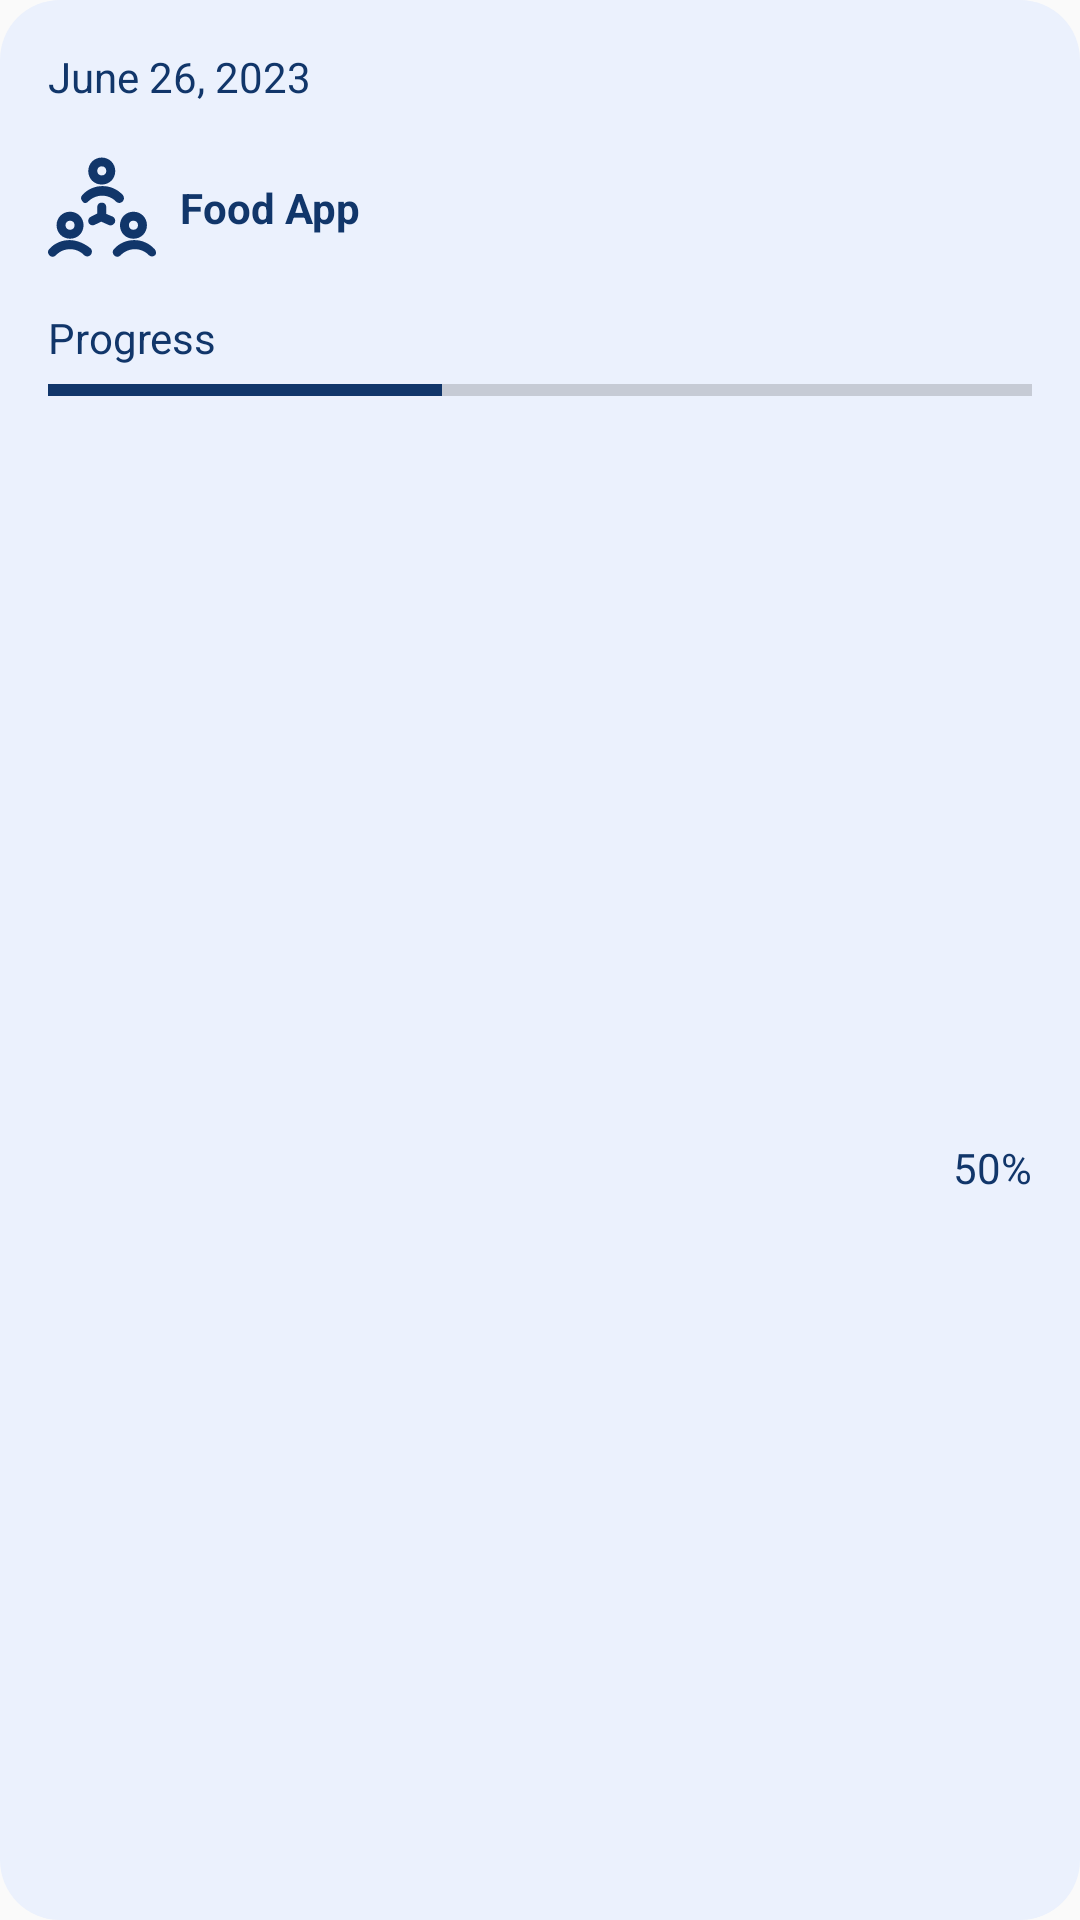

Screen size 1080 x 1920. Icon name, then its box in pixels as [x1, y1, x2, y2]:
network: [48, 157, 156, 257]
